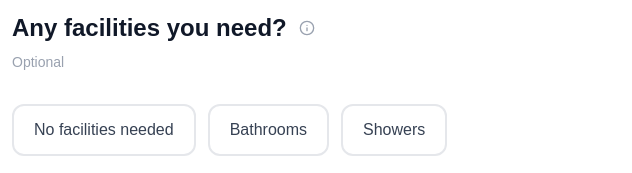
QuestionScreen — tooltip › shows the warning text after clicking the info icon
The width and height of the screenshot is (632, 173).
Expected: the text "Many spots have no facilities nearby." is not shown
Click the button named "More info" at (307, 28), box [295, 16, 319, 40]
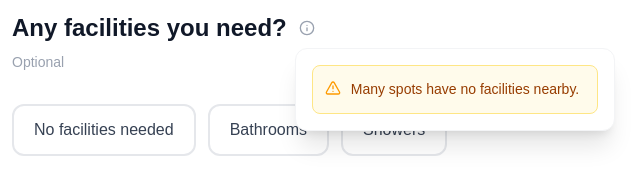
Expected: the text "Many spots have no facilities nearby." is shown, [351, 78, 579, 101]
